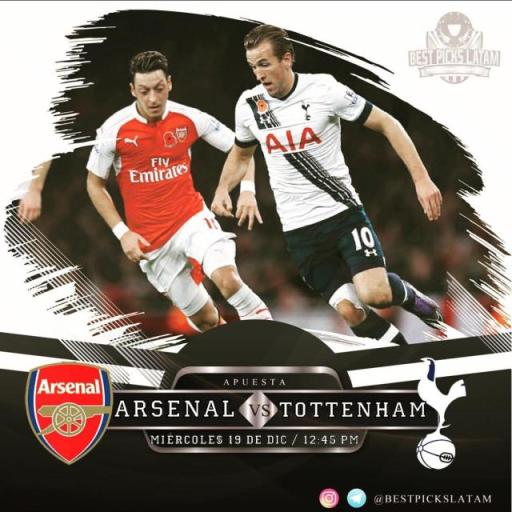Emirates: (127, 153, 191, 185)
